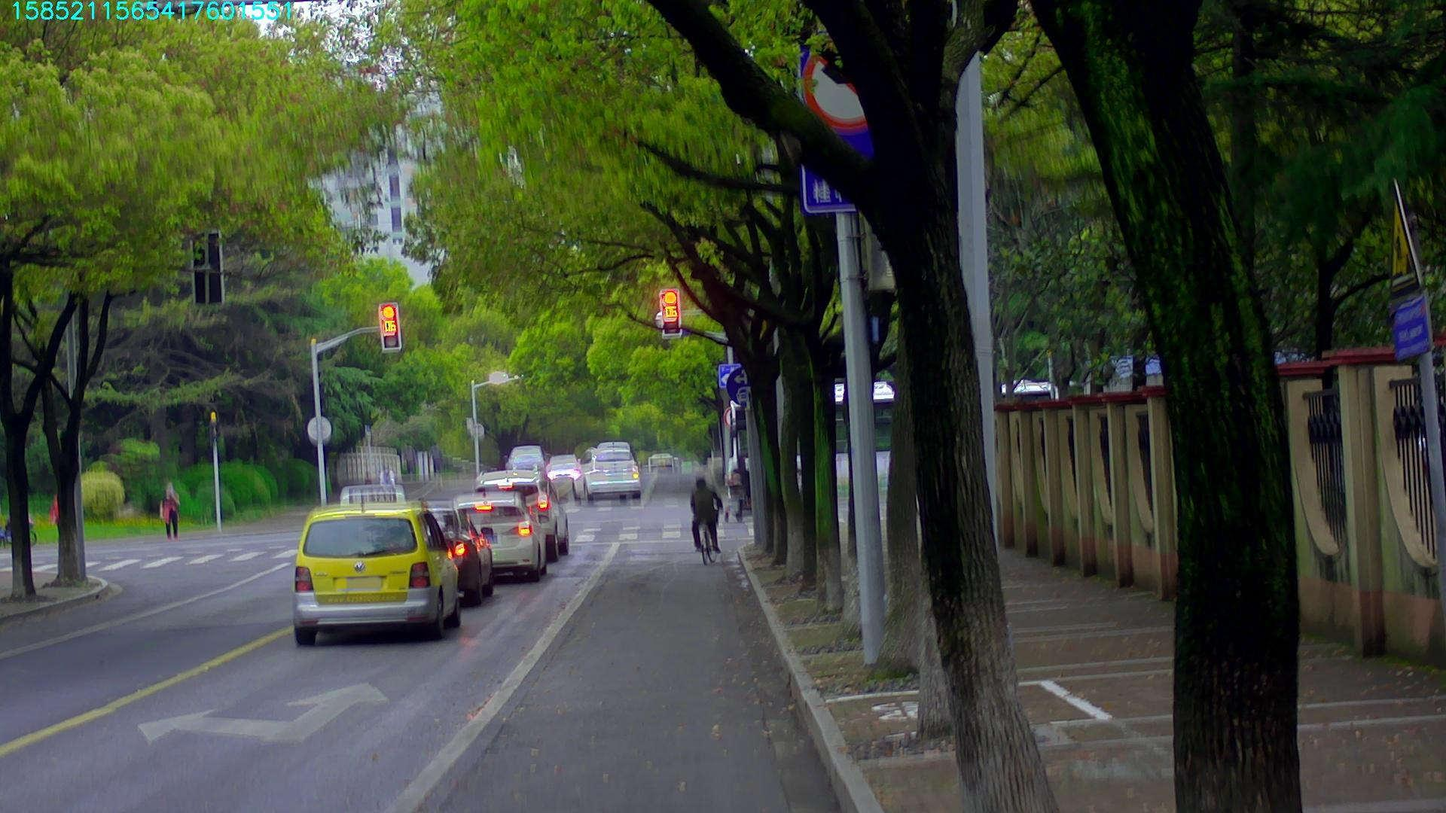red: (378, 302, 399, 349), (660, 290, 680, 336)
